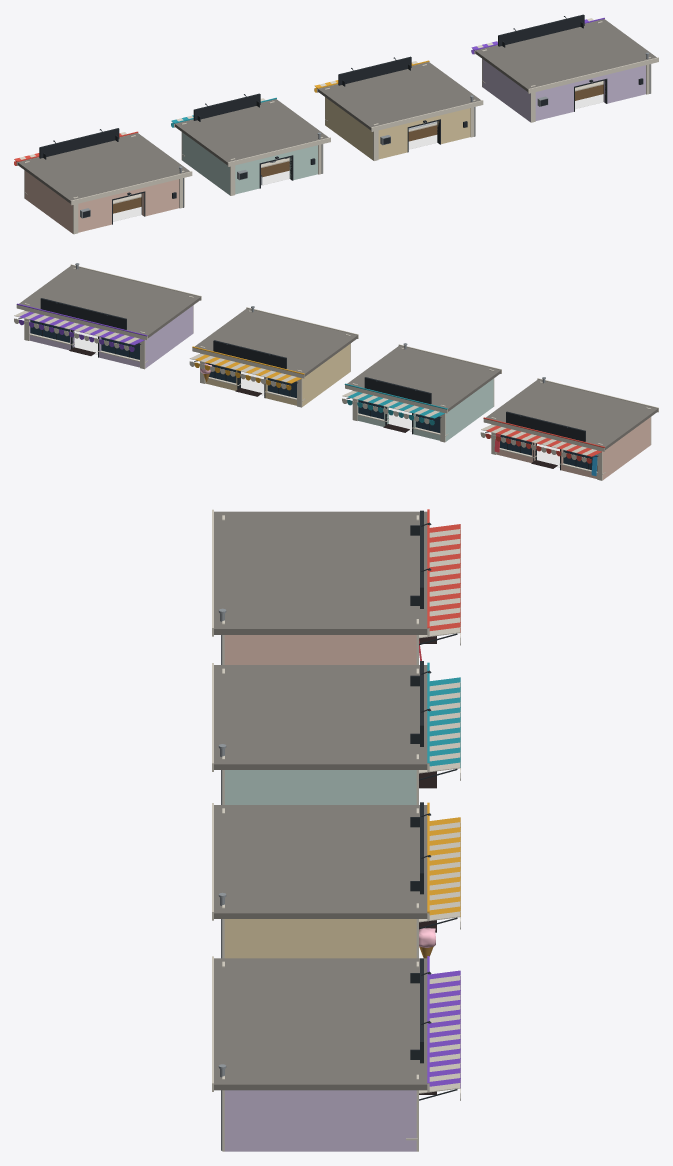
Rendered from gb-shops.glb.
3 views of the same model, one above another, from view 1: azimuth 30°, elevation 25°; view 2: azimuth 150°, elevation 25°; view 3: azimuth 270°, elevation 25° (orthographic). The views are drawn at different scales.
Parts seen in each view (by area): view 1: gb-shops; view 2: gb-shops; view 3: gb-shops.
Part boxes in pixels (bbox=[...]): gb-shops: bbox=[14, 14, 658, 234]; gb-shops: bbox=[14, 263, 658, 480]; gb-shops: bbox=[212, 509, 460, 1151].
Bounding box in the file's own units: 63.6 × 4.98 × 11.67.
